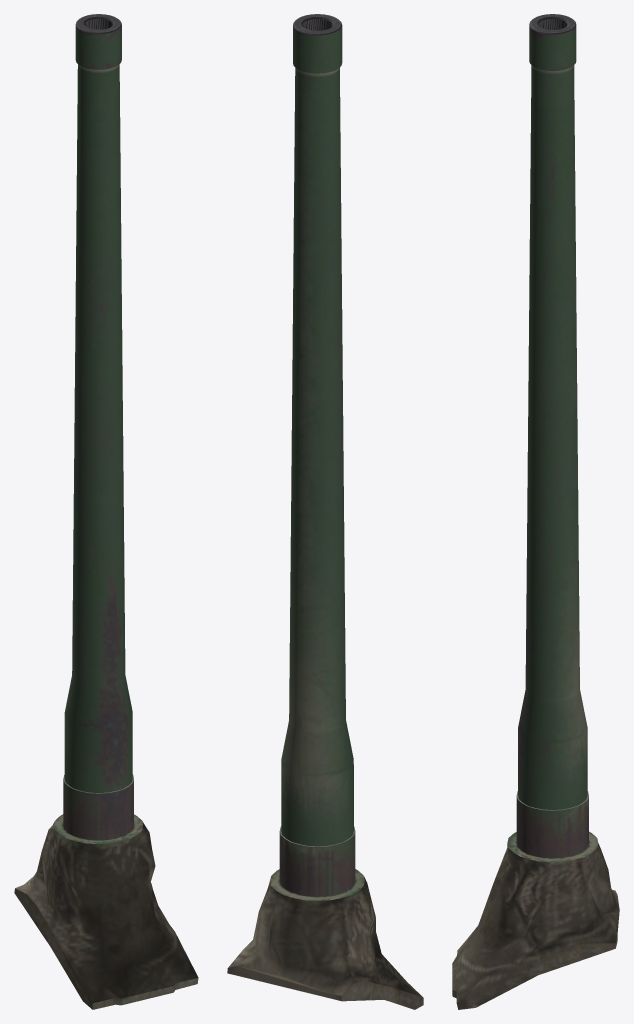
File: Gun_06.glb
3 renders of one model, left to right at view 1: azimuth 30°, elevation 25°; view 2: azimuth 150°, elevation 25°; view 3: azimuth 270°, elevation 25°, orthographic. The views are drawn at different scales.
Parts seen in each view (by area): view 1: set_0_group_0; view 2: set_0_group_0; view 3: set_0_group_0.
Boxes of the visible parts, x1=… form: set_0_group_0: x1=14, y1=14, x2=198, y2=1009; set_0_group_0: x1=227, y1=14, x2=423, y2=1009; set_0_group_0: x1=452, y1=14, x2=619, y2=1009.
Bounding box in the file's own units: 0.4478 × 3.67 × 0.5797.
Materials: 1 (1 with a texture image).
